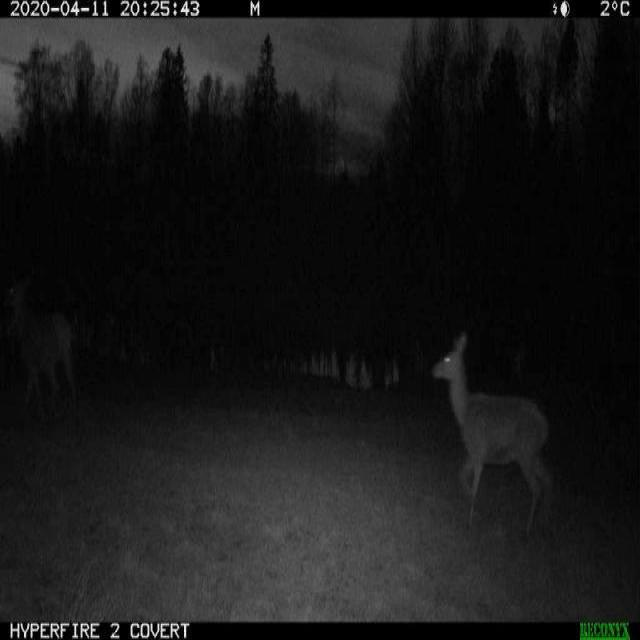deer: (416, 318, 558, 533), (20, 254, 119, 445)
